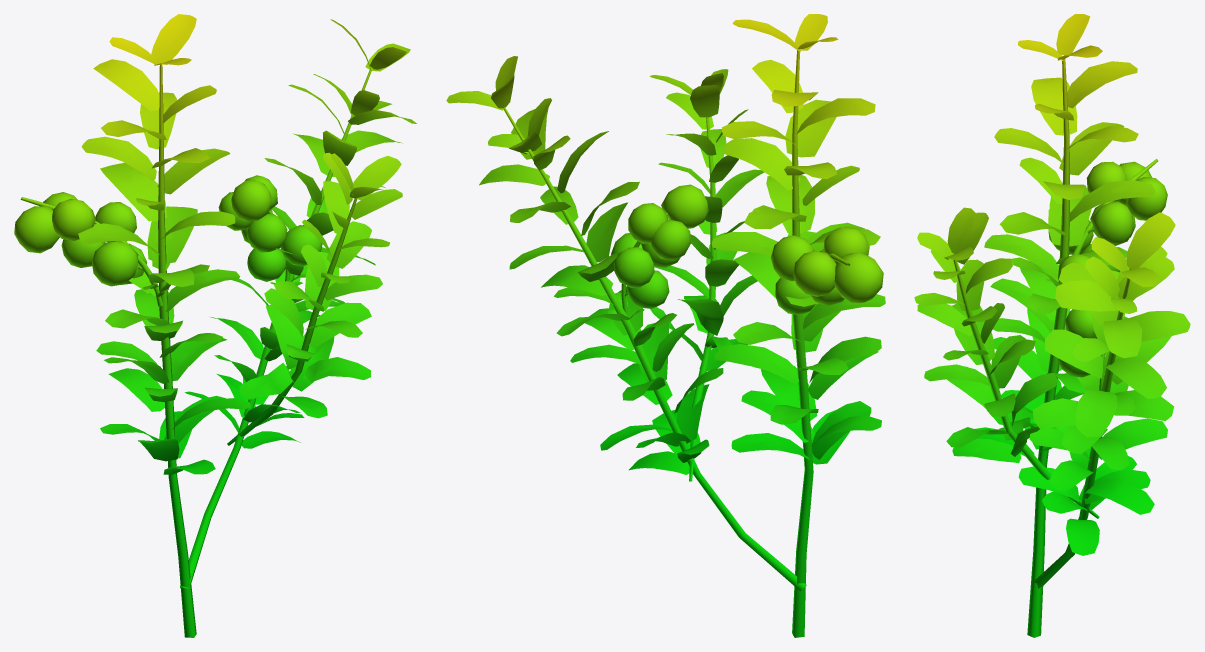
The model's file is Lingonberry_LOD1_Var9.fbx.
3 views of the same model, side by side, from view 1: azimuth 30°, elevation 25°; view 2: azimuth 150°, elevation 25°; view 3: azimuth 270°, elevation 25° (orthographic). The views are drawn at different scales.
Visible parts, largest first — view 1: _j6gb_Var9_LOD1; view 2: _j6gb_Var9_LOD1; view 3: _j6gb_Var9_LOD1.
Boxes of the visible parts, x1,y1,x2,y2 form: _j6gb_Var9_LOD1: [14, 14, 416, 637]; _j6gb_Var9_LOD1: [446, 14, 885, 637]; _j6gb_Var9_LOD1: [914, 14, 1190, 637].
Size of the model in its own units: 11.6 by 16.39 by 6.89.
